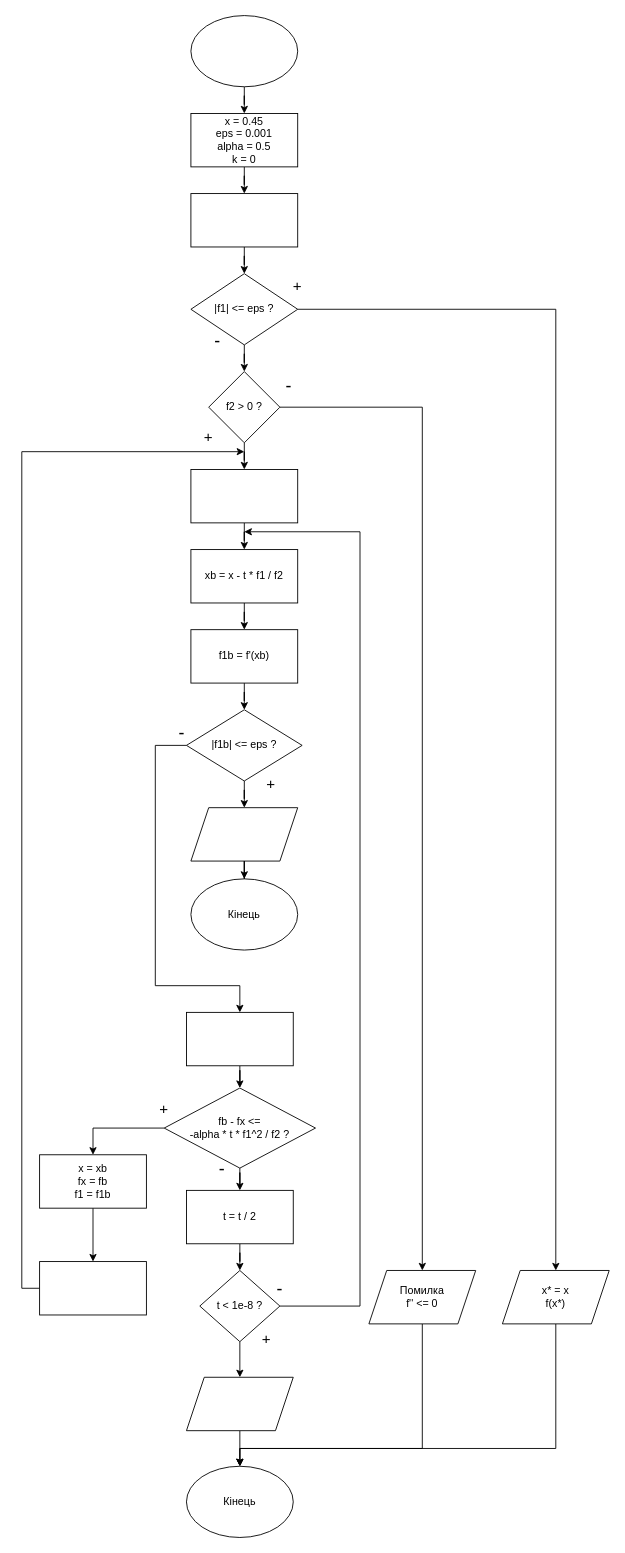
Image size: 625x1553. Some labels were removed from this diagram. The shapes that lost their labels are listed below. From the top down, each one's centre as x and y in pixels, then its label:
At point (244, 51): "Початок".
At point (244, 220): "fx = f(x) f1 = f'(x) f2 = f''(x)".
At point (244, 496): "t = 1".
At point (244, 834): "x* = xb f(x*)".
At point (239, 1038): "fb = f(xb)".
At point (92, 1288): "f2 = f''(x) k = k + 1".
At point (239, 1403): "Крок занадто малий x* = x".
